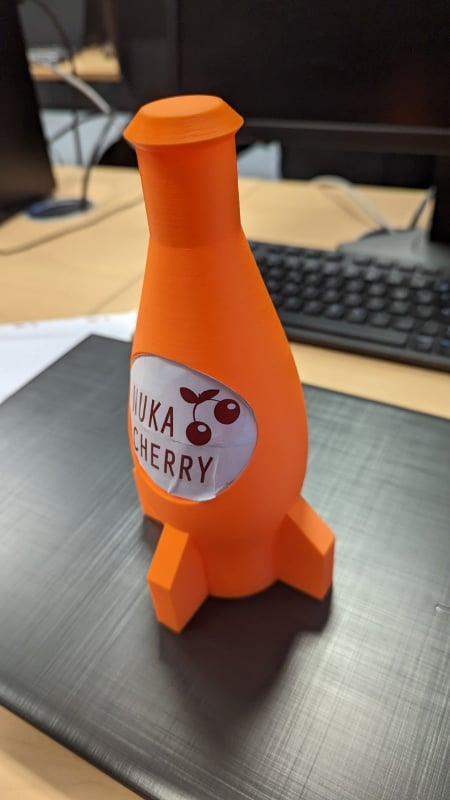bottle: (95, 87, 339, 634)
